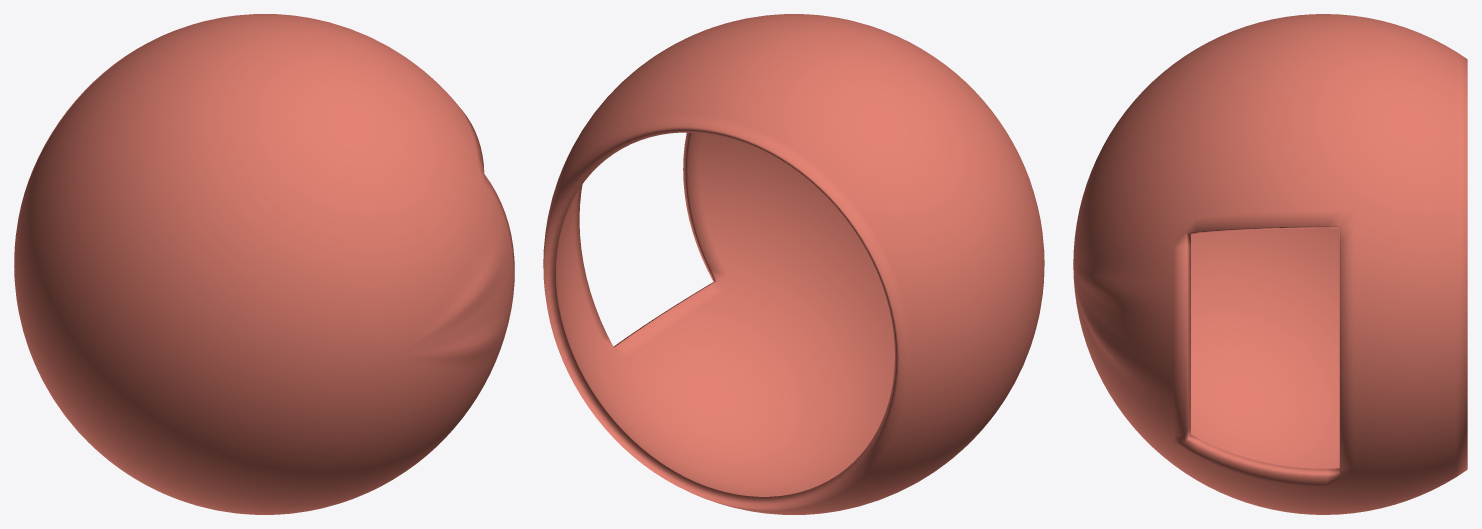
File: A1_helmet.glb
3 renders of one model, left to right at view 1: azimuth 30°, elevation 25°; view 2: azimuth 150°, elevation 25°; view 3: azimuth 270°, elevation 25°, orthographic.
Visible parts, largest first — view 1: A1_helmet; view 2: A1_helmet; view 3: A1_helmet.
Boxes of the visible parts, <box> form: A1_helmet: <box>14,14,514,514</box>; A1_helmet: <box>543,14,1044,514</box>; A1_helmet: <box>1073,14,1467,514</box>.
Bounding box in the file's own units: 0.2597 × 0.26 × 0.2046.
